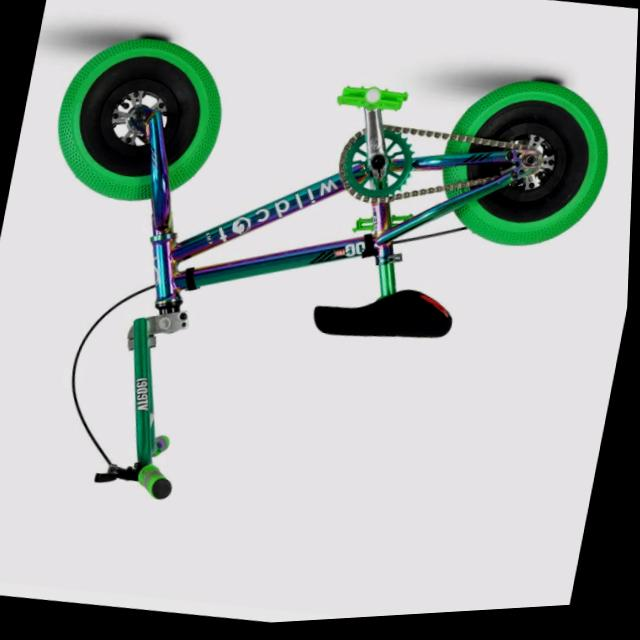bmx-bike: (0, 4, 629, 570)
